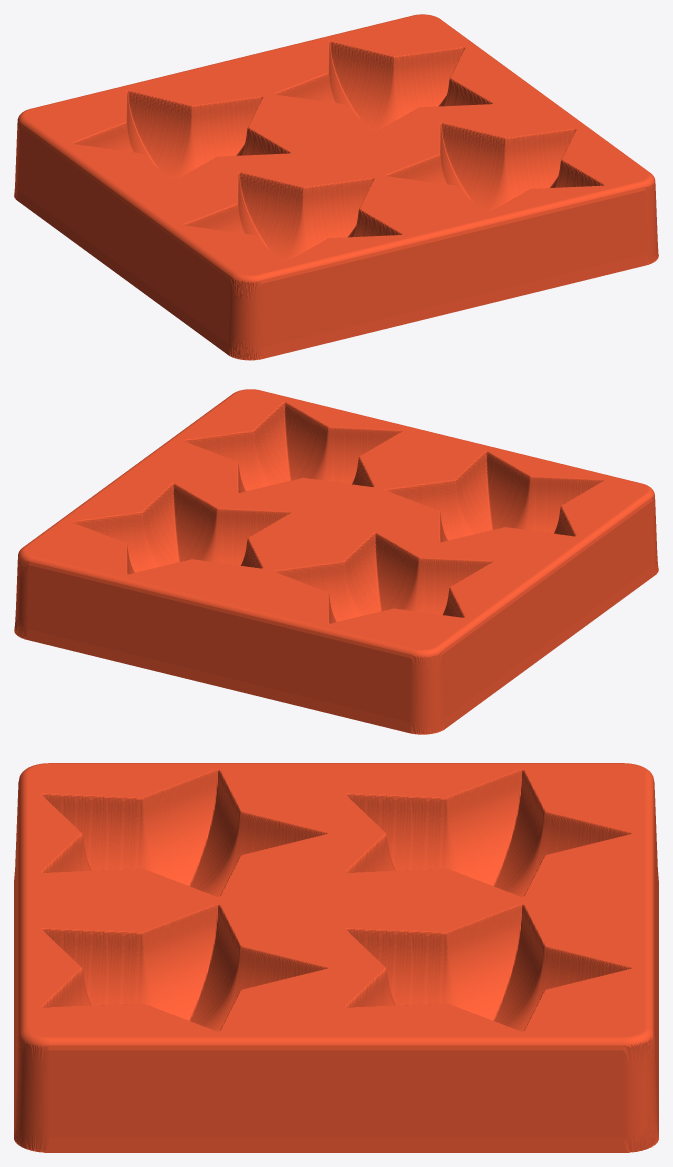
Rendered from mold.glb.
3 views of the same model, one above another, from view 1: azimuth 30°, elevation 25°; view 2: azimuth 150°, elevation 25°; view 3: azimuth 270°, elevation 25° (orthographic). The views are drawn at different scales.
Parts seen in each view (by area): view 1: geometry_0; view 2: geometry_0; view 3: geometry_0.
Boxes of the visible parts, x1,y1,x2,y2 form: geometry_0: (14,14,658,360); geometry_0: (14,389,658,734); geometry_0: (14,763,658,1152).
Bounding box in the file's own units: 0.1721 × 0.031 × 0.1647.
